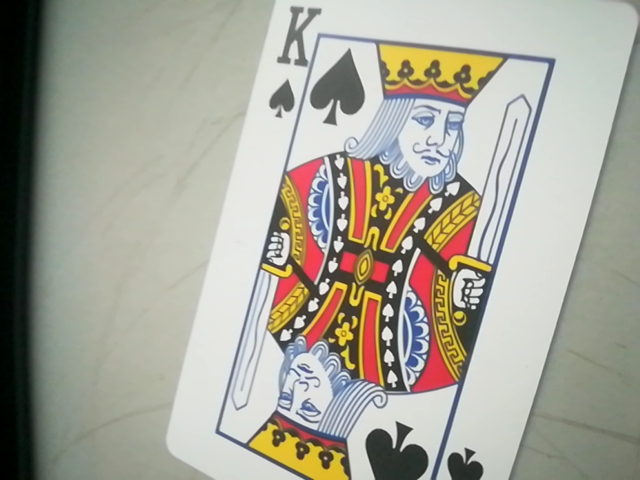ht k: (260, 2, 325, 129)
